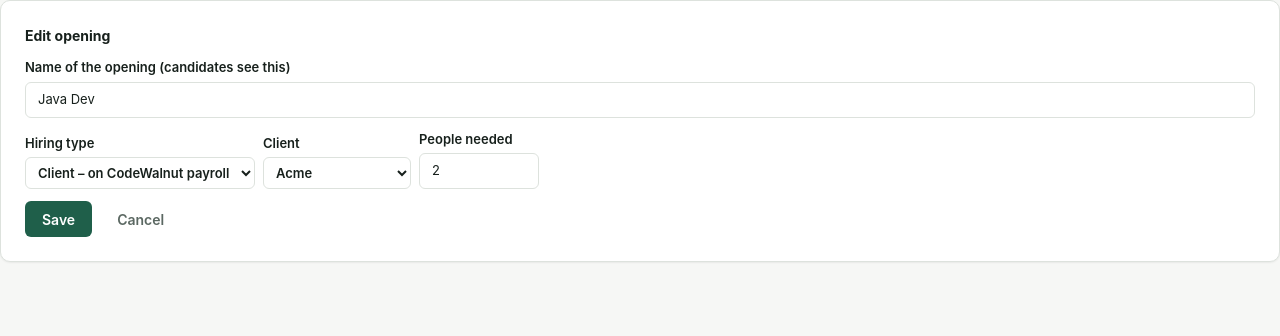
Scenario: EditOpeningForm (TRK-15) › internal openings have no client, and the server’s reason is shown
Select "Internal (CodeWalnut)" in the dropdown labelled "Hiring type". click: (140, 173)
box: [25, 157, 255, 189]
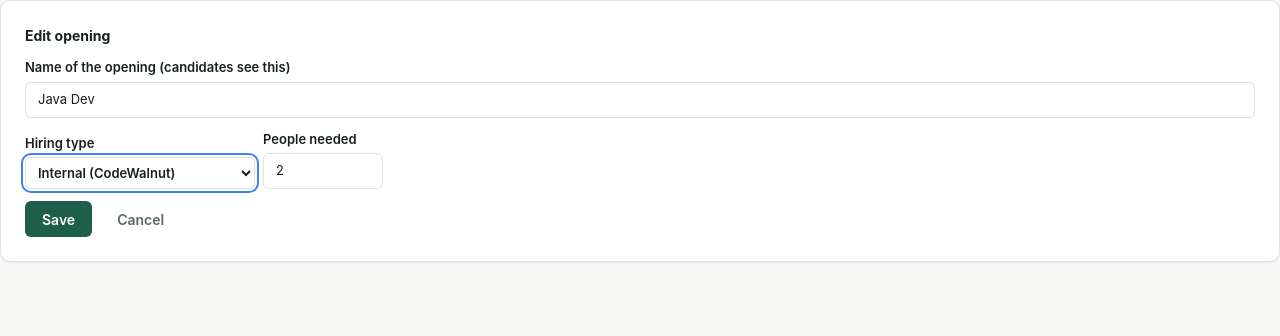
Result: the label labelled "Client" is gone
Click the button "Save". click: (59, 219)
box: [25, 201, 92, 237]
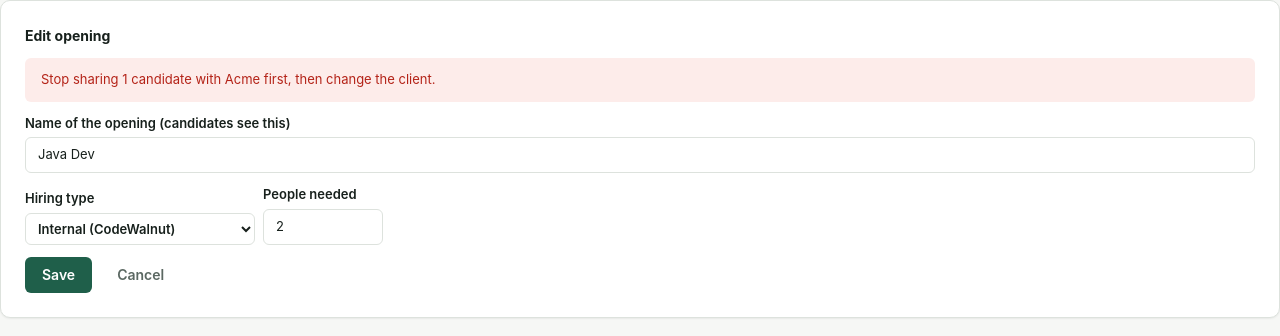
Result: the message shows "Stop sharing 1 candidate with Acme" at [41, 71, 436, 87]
